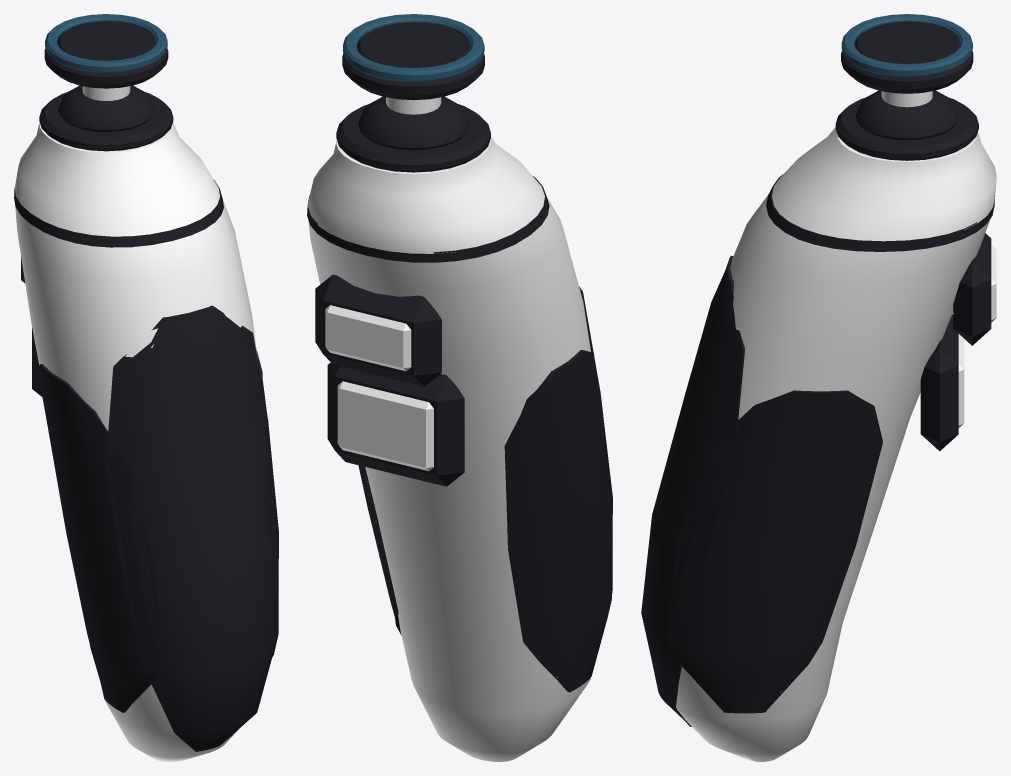
The model's file is con-stick-grip.glb.
3 renders of one model, left to right at view 1: azimuth 30°, elevation 25°; view 2: azimuth 150°, elevation 25°; view 3: azimuth 270°, elevation 25°, orthographic. The views are drawn at different scales.
Visible parts, largest first — view 1: part_stick_seated_palm_cushion, part_stick_hand_contour, part_stick_seated_side_pad, part_stick_top_cap, part_stick_socket, part_stick_flexible_boot, part_stick_thumb_contact, part_stick_thumbcap_rim, part_stick_top_gasket, part_stick_thumbcap_base, part_stick_seated_side_pad.001, part_stick_shaft; view 2: part_stick_hand_contour, part_stick_seated_side_pad, part_stick_top_cap, part_button_z_key, part_button_z_recess, part_button_c_recess, part_stick_socket, part_stick_flexible_boot, part_button_c_key, part_stick_thumb_contact, part_stick_thumbcap_rim, part_stick_top_gasket (+3 smaller); view 3: part_stick_seated_side_pad.001, part_stick_hand_contour, part_stick_seated_palm_cushion, part_stick_top_cap, part_stick_socket, part_button_z_recess, part_stick_flexible_boot, part_stick_thumb_contact, part_stick_thumbcap_rim, part_button_c_recess, part_stick_top_gasket, part_stick_thumbcap_base (+2 smaller).
Boxes of the visible parts, x1=… form: part_stick_seated_palm_cushion: x1=106, y1=305, x2=278, y2=751; part_stick_hand_contour: x1=15, y1=200, x2=257, y2=761; part_stick_seated_side_pad: x1=37, y1=364, x2=162, y2=712; part_stick_top_cap: x1=15, y1=122, x2=219, y2=236; part_stick_socket: x1=39, y1=92, x2=173, y2=151; part_stick_flexible_boot: x1=58, y1=85, x2=154, y2=131; part_stick_thumb_contact: x1=57, y1=21, x2=155, y2=60; part_stick_thumbcap_rim: x1=45, y1=14, x2=167, y2=73; part_stick_top_gasket: x1=14, y1=180, x2=223, y2=247; part_stick_thumbcap_base: x1=44, y1=32, x2=168, y2=88; part_stick_seated_side_pad.001: x1=256, y1=349, x2=278, y2=657; part_stick_shaft: x1=82, y1=86, x2=130, y2=101; part_stick_hand_contour: x1=308, y1=196, x2=590, y2=761; part_stick_seated_side_pad: x1=504, y1=350, x2=612, y2=692; part_stick_top_cap: x1=308, y1=137, x2=544, y2=253; part_button_z_key: x1=337, y1=381, x2=433, y2=470; part_button_z_recess: x1=327, y1=362, x2=464, y2=486; part_button_c_recess: x1=315, y1=274, x2=441, y2=386; part_stick_socket: x1=336, y1=104, x2=490, y2=172; part_stick_flexible_boot: x1=358, y1=96, x2=469, y2=150; part_button_c_key: x1=325, y1=305, x2=411, y2=371; part_stick_thumb_contact: x1=357, y1=22, x2=470, y2=68; part_stick_thumbcap_rim: x1=343, y1=14, x2=484, y2=82; part_stick_top_gasket: x1=307, y1=176, x2=549, y2=262; part_stick_seated_side_pad.001: x1=666, y1=390, x2=882, y2=713; part_stick_hand_contour: x1=676, y1=194, x2=989, y2=761; part_stick_seated_palm_cushion: x1=641, y1=255, x2=744, y2=726; part_stick_top_cap: x1=772, y1=127, x2=996, y2=241; part_stick_socket: x1=835, y1=97, x2=978, y2=160; part_button_z_recess: x1=920, y1=314, x2=958, y2=451; part_stick_flexible_boot: x1=856, y1=90, x2=958, y2=140; part_stick_thumb_contact: x1=855, y1=21, x2=959, y2=64; part_stick_thumbcap_rim: x1=841, y1=14, x2=972, y2=77; part_button_c_recess: x1=953, y1=233, x2=991, y2=345; part_stick_top_gasket: x1=766, y1=174, x2=994, y2=251; part_stick_thumbcap_base: x1=841, y1=33, x2=973, y2=93.
Size of what is drawn, in the model's own units: 0.0371 by 0.1228 by 0.0557.
